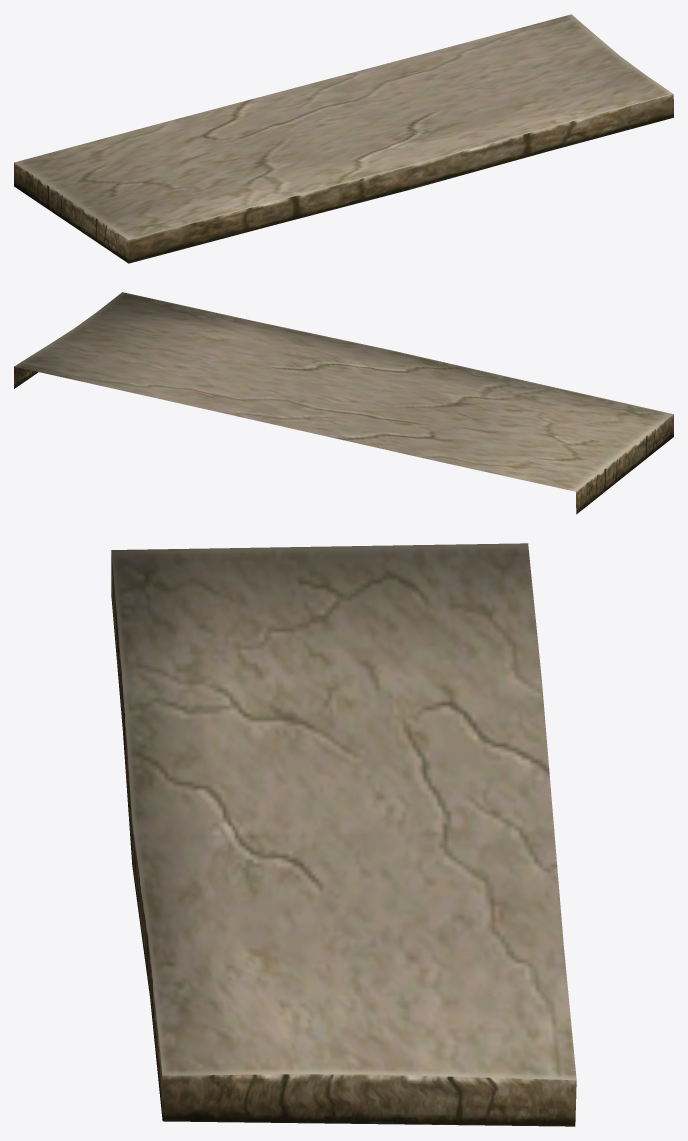
The model's file is HTOWN01_GREENDRAGPORCH.fbx.
3 renders of one model, top to bottom at view 1: azimuth 30°, elevation 25°; view 2: azimuth 150°, elevation 25°; view 3: azimuth 270°, elevation 25°, orthographic. The views are drawn at different scales.
Visible parts, largest first — view 1: HTOWN01_GREENDRAGPORCH; view 2: HTOWN01_GREENDRAGPORCH; view 3: HTOWN01_GREENDRAGPORCH.
Boxes of the visible parts, left/top/right/bottom form: HTOWN01_GREENDRAGPORCH: left=14, top=14, right=673, bottom=263; HTOWN01_GREENDRAGPORCH: left=14, top=292, right=673, bottom=514; HTOWN01_GREENDRAGPORCH: left=111, top=543, right=576, bottom=1126.
Bounding box in the file's own units: 78849 × 3156 × 28873.
2 materials, 2 textured.
